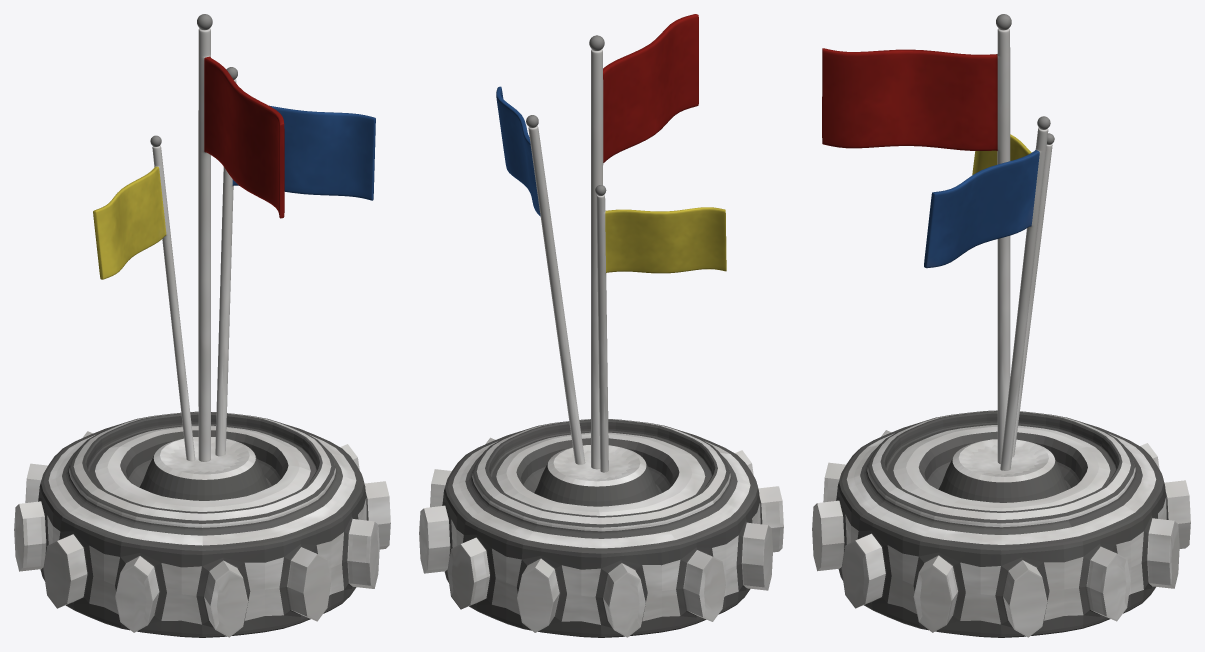
File: Flag.fbx
3 renders of one model, left to right at view 1: azimuth 30°, elevation 25°; view 2: azimuth 150°, elevation 25°; view 3: azimuth 270°, elevation 25°, orthographic. The views are drawn at different scales.
Visible parts, largest first — view 1: Cylinder.1000, F_red, F_blue, F_yellow; view 2: Cylinder.1000, F_red, F_yellow, F_blue; view 3: Cylinder.1000, F_red, F_blue, F_yellow.
Part boxes in pixels (x1,y1,x2,y2): Cylinder.1000: [14, 411, 390, 637]; F_red: [197, 14, 284, 461]; F_blue: [215, 67, 375, 456]; F_yellow: [93, 135, 195, 461]; Cylinder.1000: [419, 419, 783, 637]; F_red: [589, 14, 698, 469]; F_yellow: [595, 185, 726, 472]; F_blue: [496, 86, 585, 464]; Cylinder.1000: [812, 410, 1190, 637]; F_red: [822, 14, 1011, 463]; F_blue: [924, 116, 1050, 470]; F_yellow: [972, 133, 1054, 457].
Size of the model in its own units: 116 by 189 by 116.
